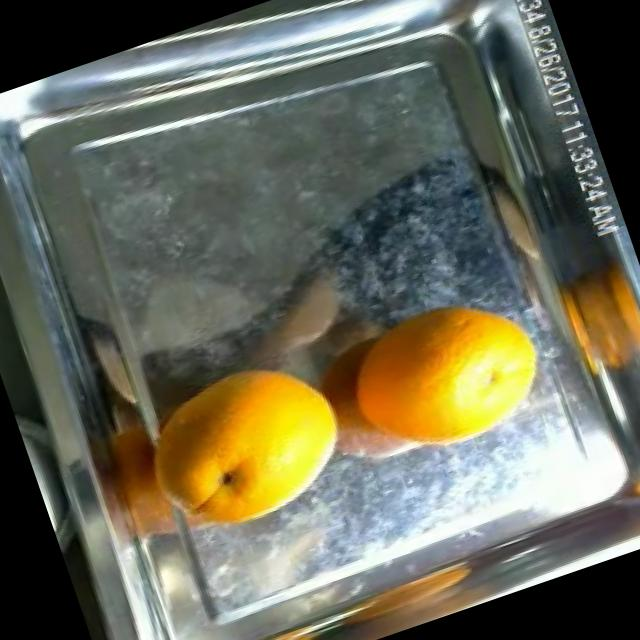Fruit: (328, 260, 578, 483)
